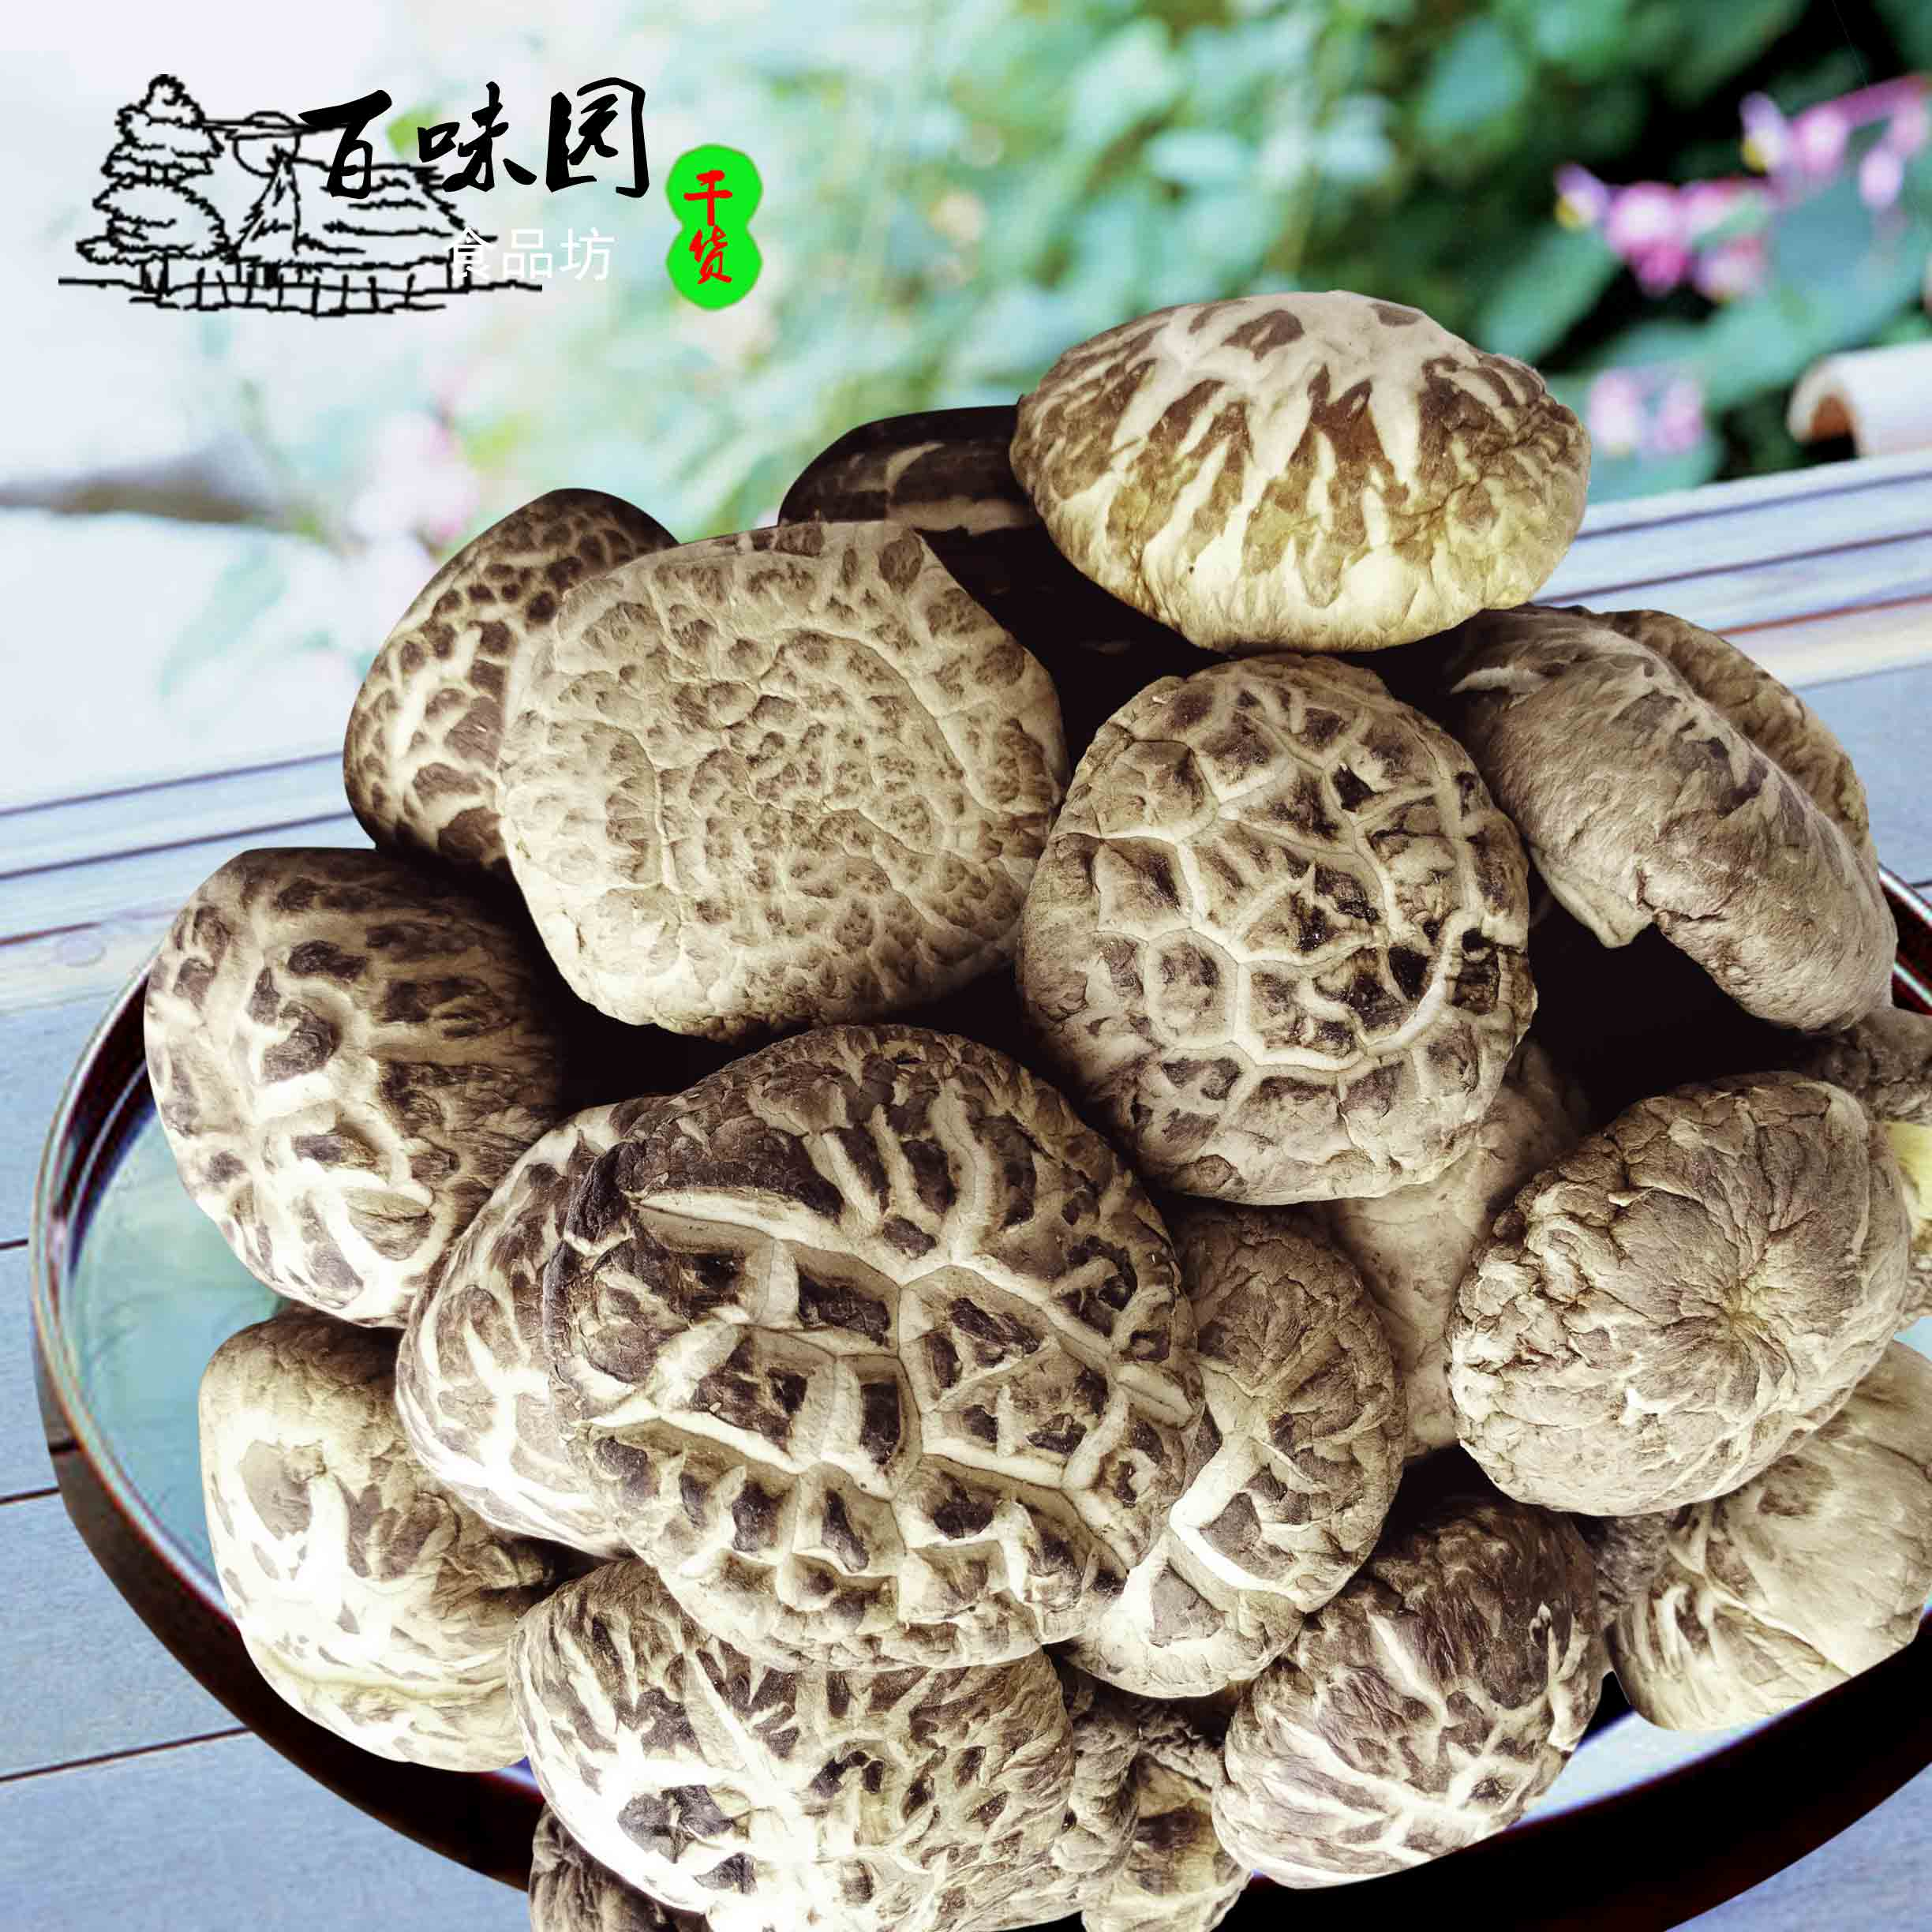H: (586, 1055, 1166, 1642), (1047, 661, 1533, 1213), (526, 527, 1020, 1020), (1477, 1065, 1909, 1530), (1031, 278, 1577, 643), (501, 1568, 1070, 1911), (142, 845, 511, 1310), (179, 1319, 537, 1784), (1211, 1539, 1612, 1888), (1145, 1225, 1398, 1717), (350, 488, 605, 847)
